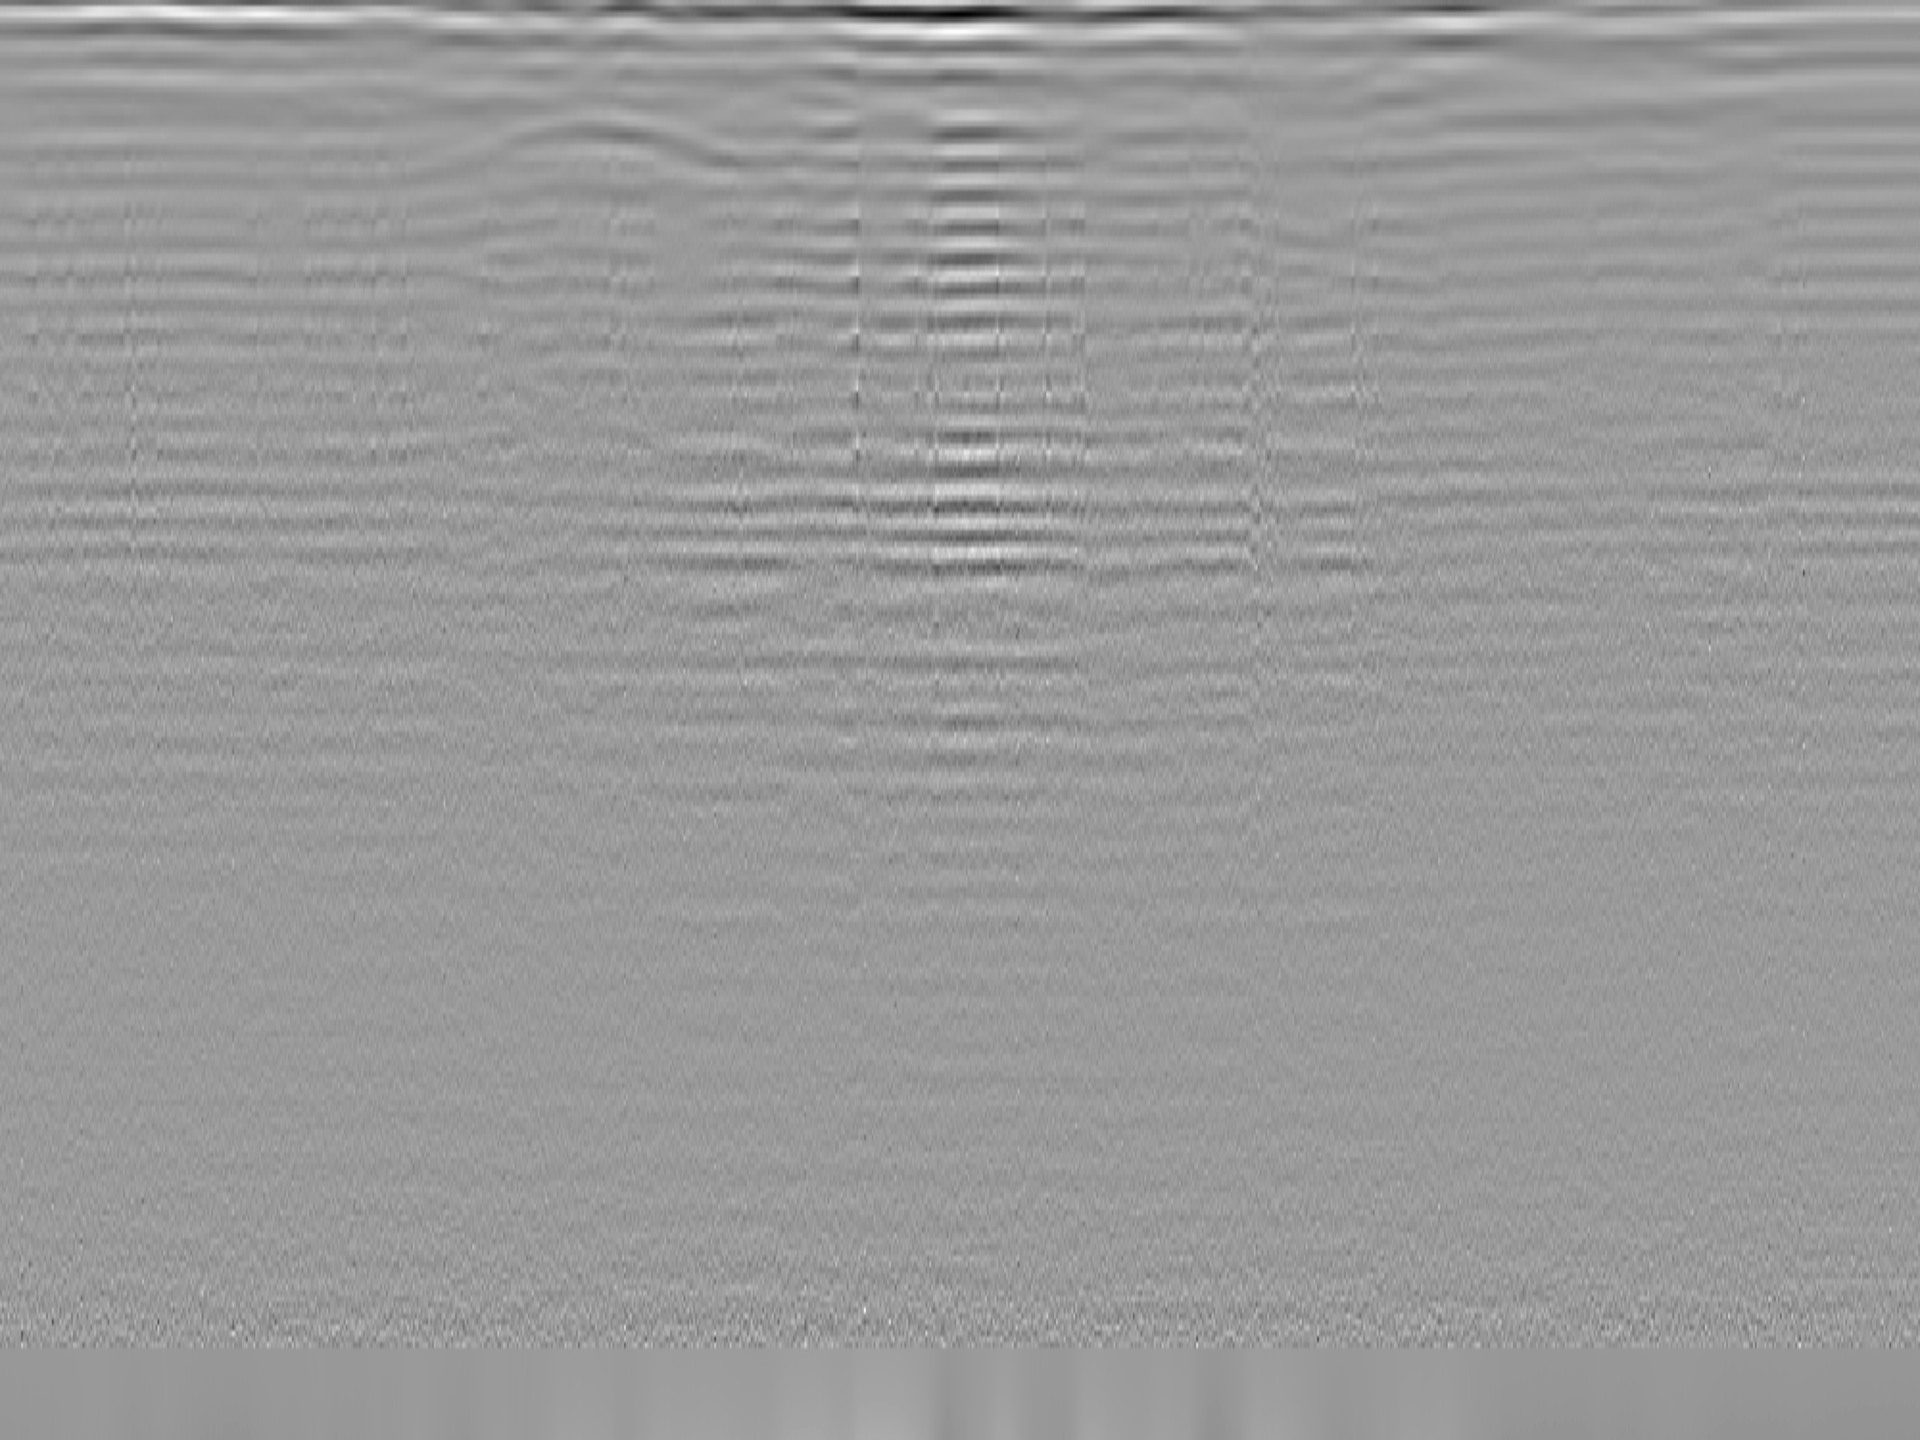Tunnel: (426, 104, 776, 172)
